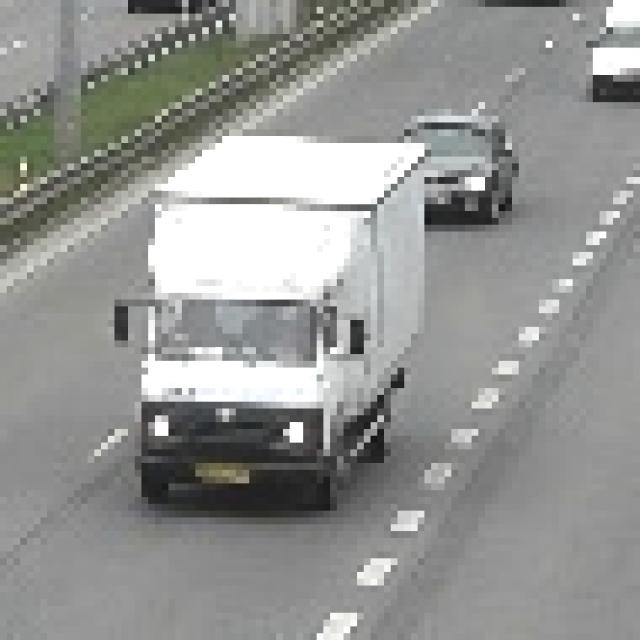truck: (109, 130, 425, 498)
